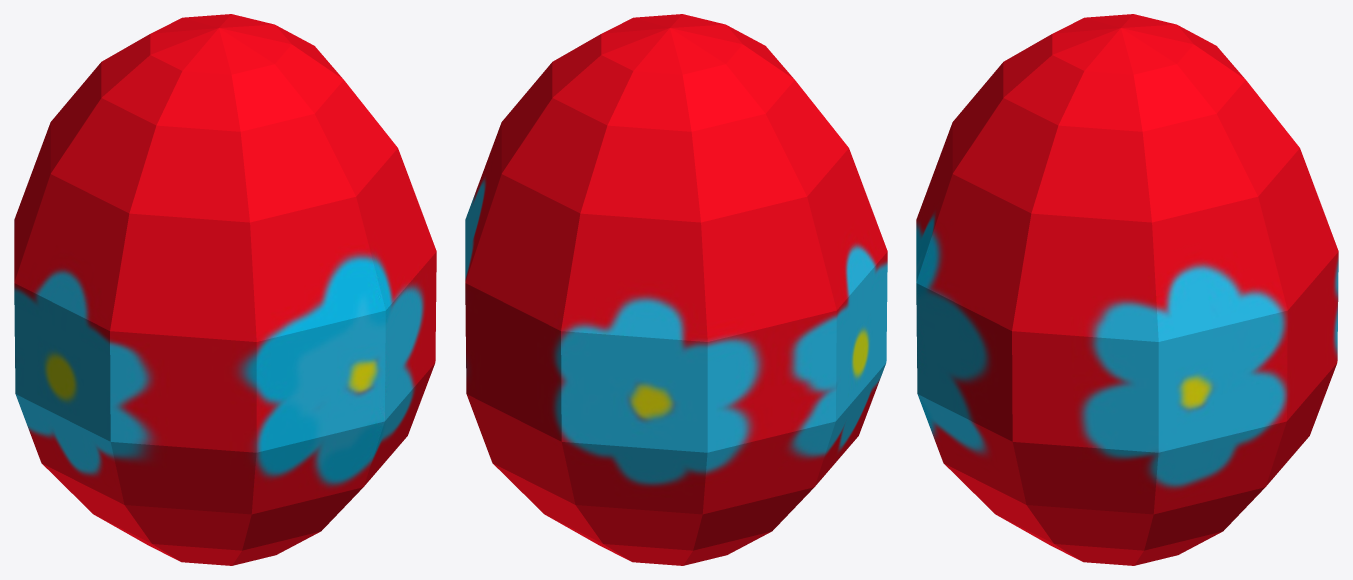
File: egg_k2.glb
3 renders of one model, left to right at view 1: azimuth 30°, elevation 25°; view 2: azimuth 150°, elevation 25°; view 3: azimuth 270°, elevation 25°, orthographic.
Visible parts, largest first — view 1: Ei; view 2: Ei; view 3: Ei.
Part boxes in pixels (x1,y1,x2,y2): Ei: (14, 14, 436, 565); Ei: (465, 14, 887, 565); Ei: (916, 14, 1338, 565).
Size of the model in its own units: 0.3486 by 0.4649 by 0.3433.
1 material, 1 textured.
